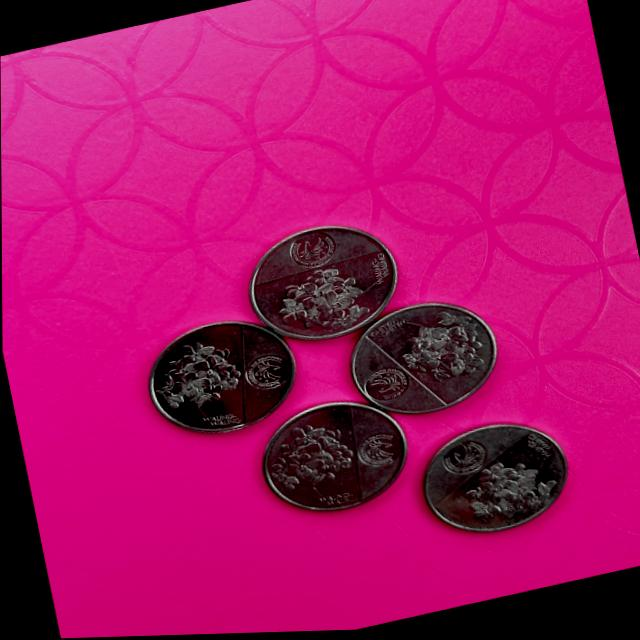1_New_Back: (266, 260, 385, 352), (442, 450, 555, 541), (380, 304, 488, 398), (145, 332, 246, 424), (263, 417, 360, 507)
